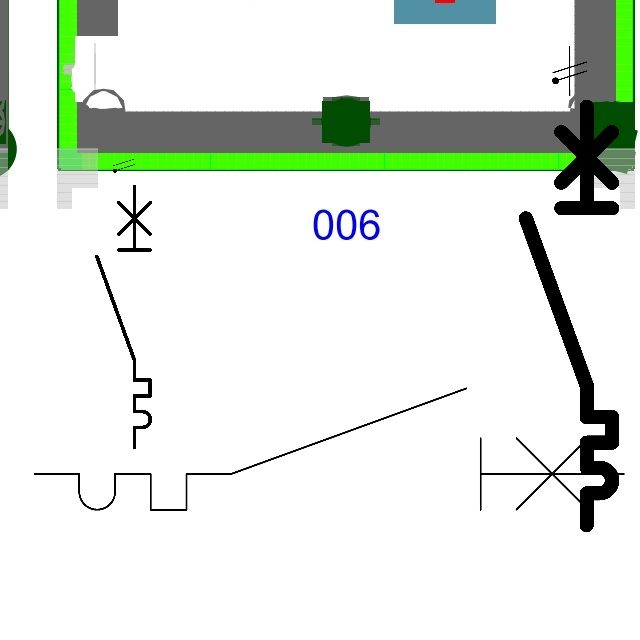interruptor_termomagnetico: (19, 373, 639, 525), (515, 95, 623, 535), (90, 180, 157, 454)
